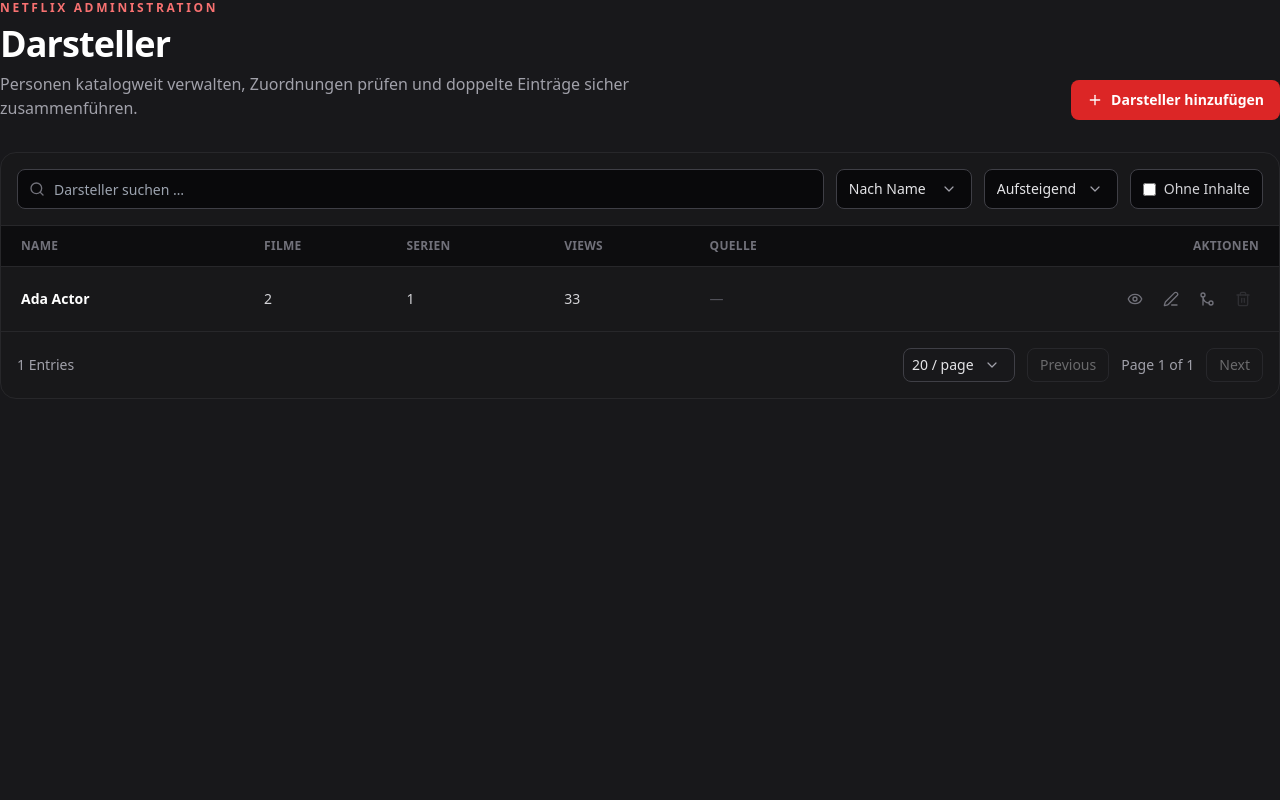
it: shows assigned content in actor details
The width and height of the screenshot is (1280, 800).
Step 1. Click the button named "Ada Actor anzeigen" → x=1135, y=299, box [1119,283,1151,315]
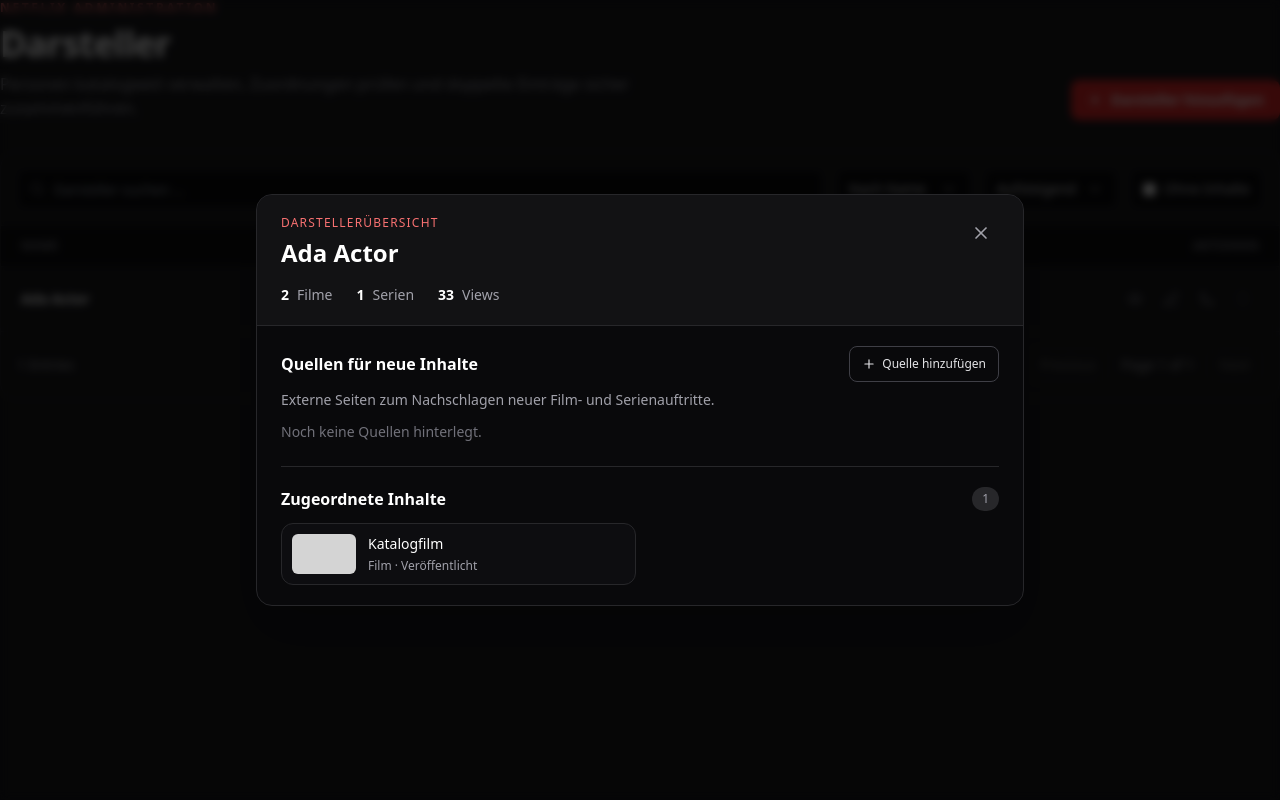
Expected: the text "Katalogfilm" is shown, [368,534,443,553]
Expected: the text "Film · Veröffentlicht" is shown, [368,558,477,574]
